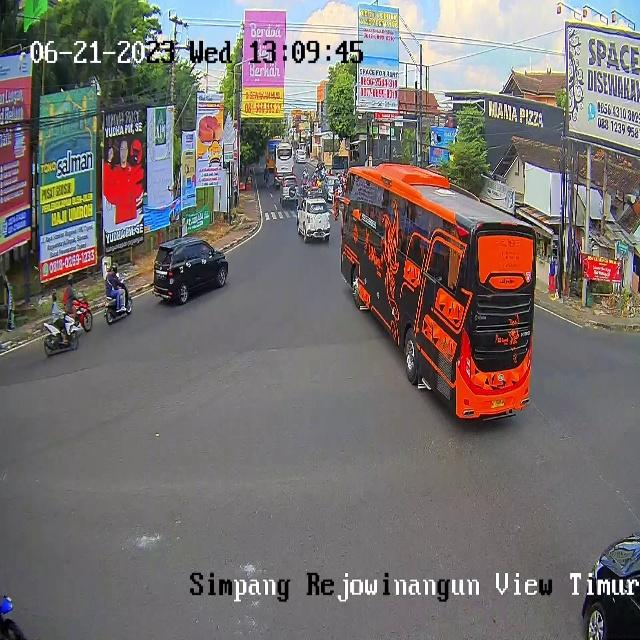bus: (44, 310, 80, 357), (104, 280, 133, 325), (72, 291, 93, 333), (317, 185, 324, 195)
car: (340, 164, 536, 421), (274, 142, 294, 185), (265, 138, 283, 168)
motorcycle: (580, 532, 640, 640), (152, 237, 230, 305), (297, 197, 331, 243), (280, 175, 300, 202), (328, 175, 343, 201)
